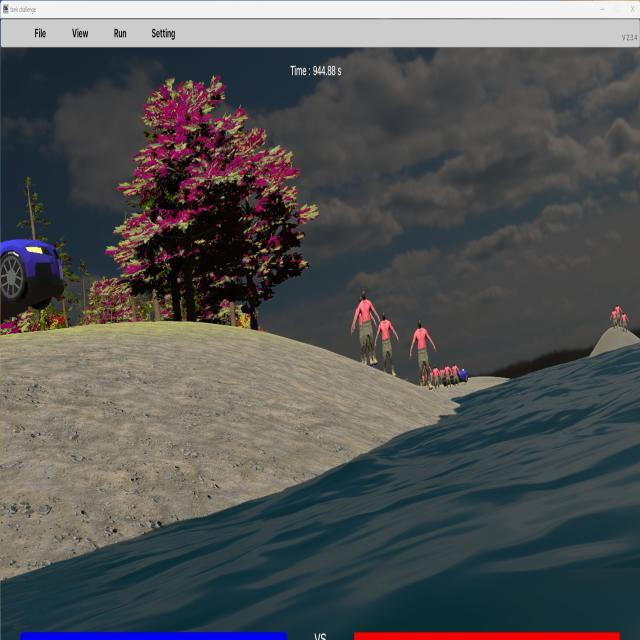Human: (352, 286, 378, 368), (410, 317, 436, 391), (375, 309, 399, 379)
car: (0, 240, 66, 321)
